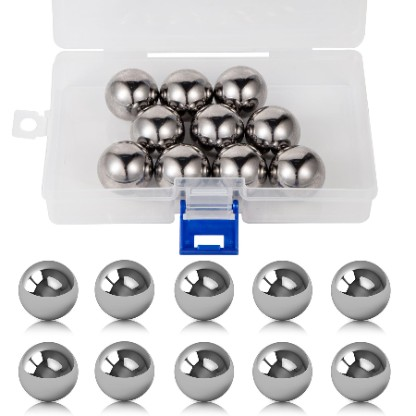ironball: (330, 260, 390, 320), (330, 341, 390, 401), (18, 260, 78, 320), (252, 341, 312, 401), (174, 341, 234, 401), (18, 341, 78, 401), (252, 260, 312, 320), (94, 340, 154, 400), (94, 259, 154, 319), (174, 260, 234, 320), (244, 104, 300, 158), (129, 104, 184, 158), (104, 67, 158, 121), (213, 65, 267, 118), (159, 68, 213, 120), (189, 102, 244, 153), (96, 140, 153, 188), (210, 142, 267, 187), (268, 144, 325, 188), (153, 143, 210, 187)
